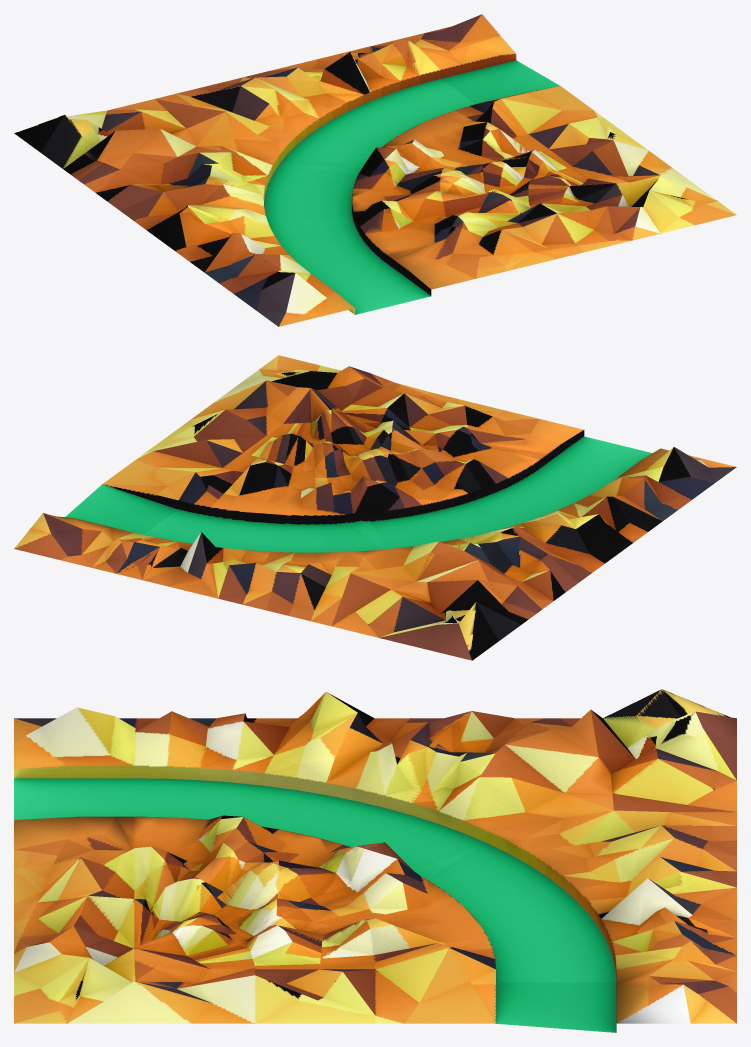
The model's file is corner_l.fbx.
The picture shows the model from 3 angles, top to bottom: view 1: azimuth 30°, elevation 25°; view 2: azimuth 150°, elevation 25°; view 3: azimuth 270°, elevation 25°; orthographic projection. The views are drawn at different scales.
Parts seen in each view (by area): view 1: corner_l; view 2: corner_l; view 3: corner_l.
Part boxes in pixels (box(x1,y1,x2,y2)): corner_l: box(14, 14, 736, 326); corner_l: box(14, 355, 736, 660); corner_l: box(14, 689, 736, 1032).
Size of the model in its own units: 144 by 11.9 by 144.
